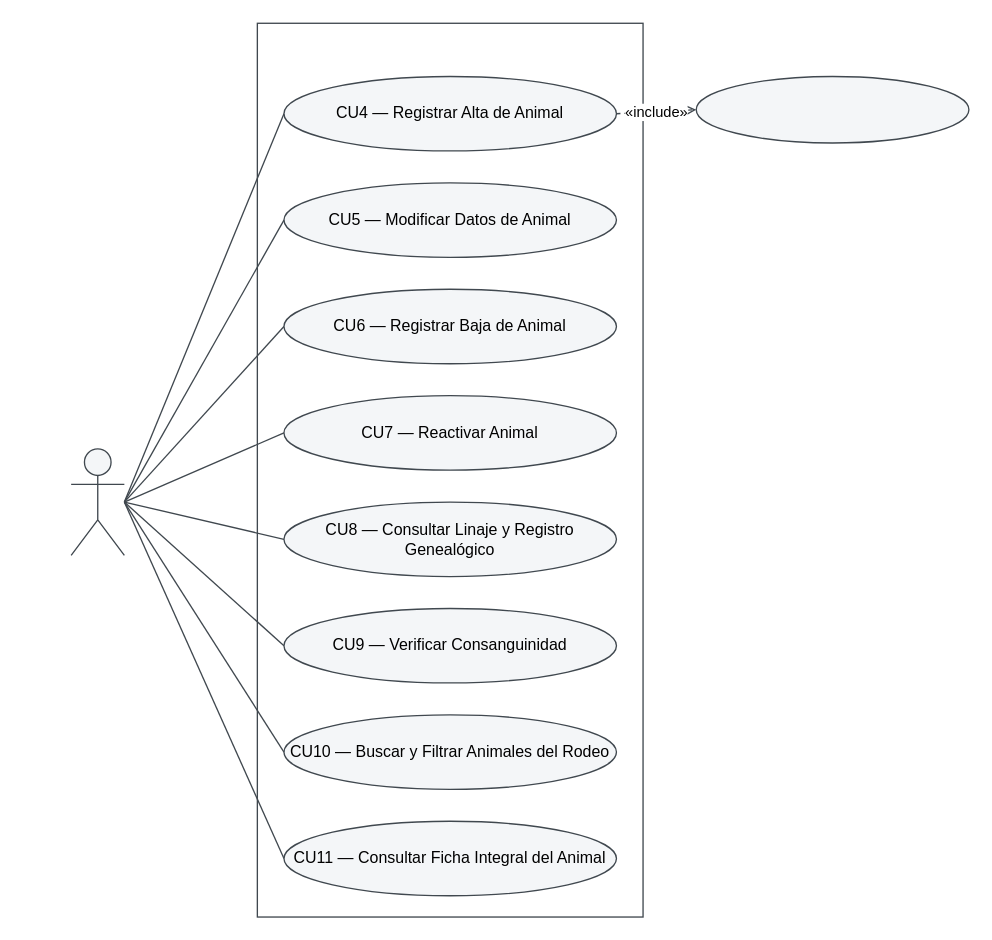
This 992x940 diagram has some shape labels left out. The shapes that lost their labels are listed below. From the top down, each one's box as (x1, y1, x2, y2) in pixels, then its label:
(695, 75, 969, 143): Validar Unicidad de Caravana
(256, 22, 643, 917): Sistema de Gestión de Tambo
(70, 448, 124, 555): Encargada del sector
